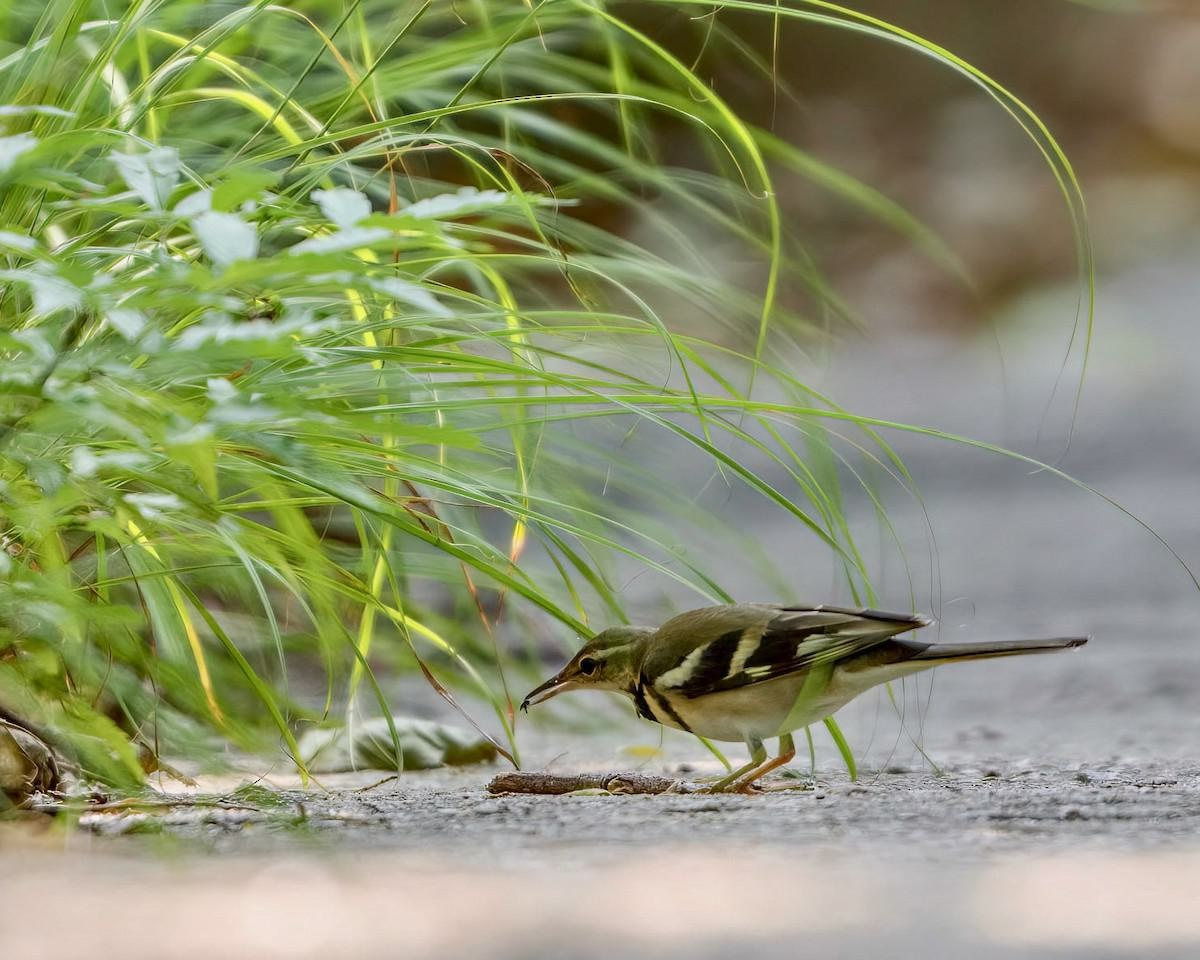wagtail: (496, 596, 1035, 799)
